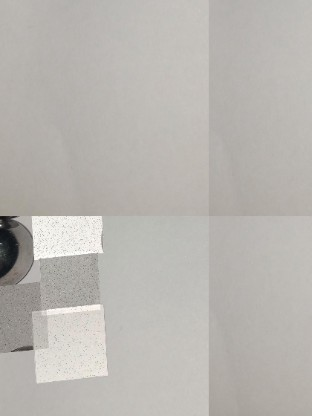ironball: (0, 216, 32, 288)
